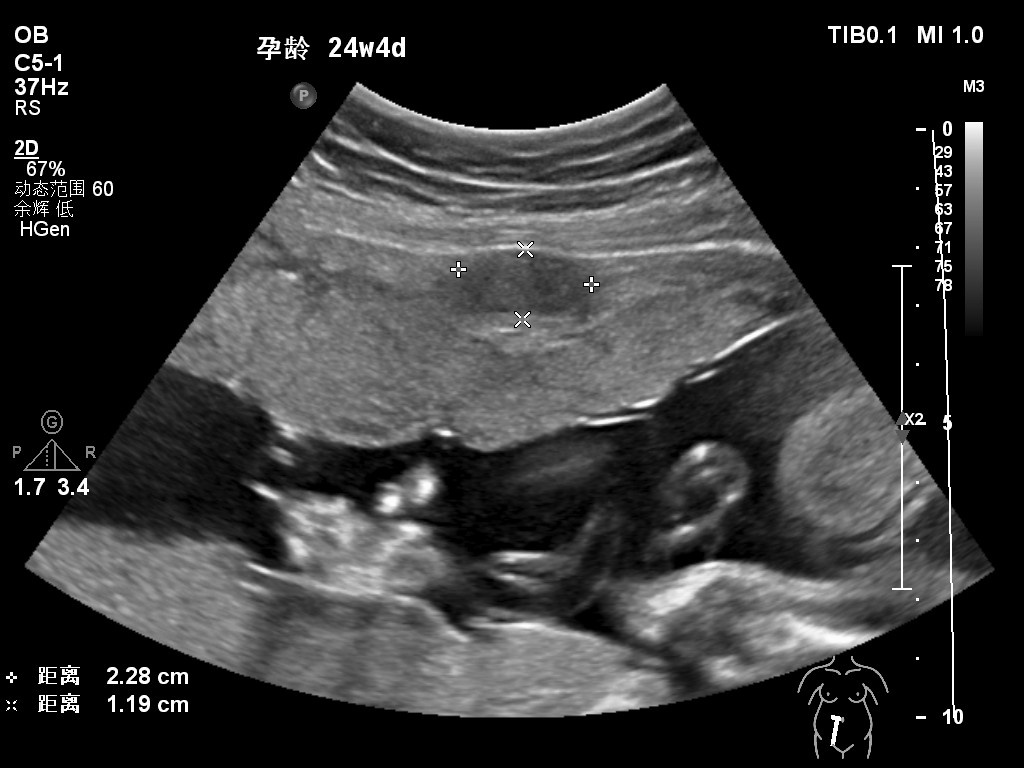肌瘤: (455, 248, 597, 322)
